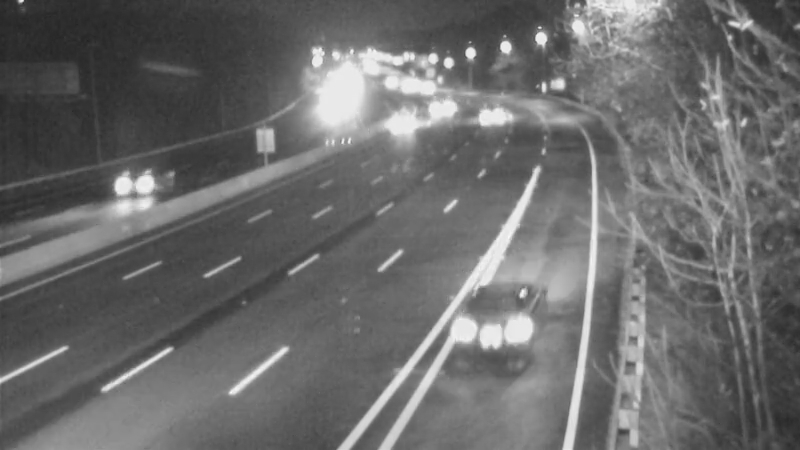vehicle: (435, 280, 545, 390), (80, 135, 160, 215), (416, 80, 466, 130), (470, 89, 520, 139), (379, 103, 429, 153)
